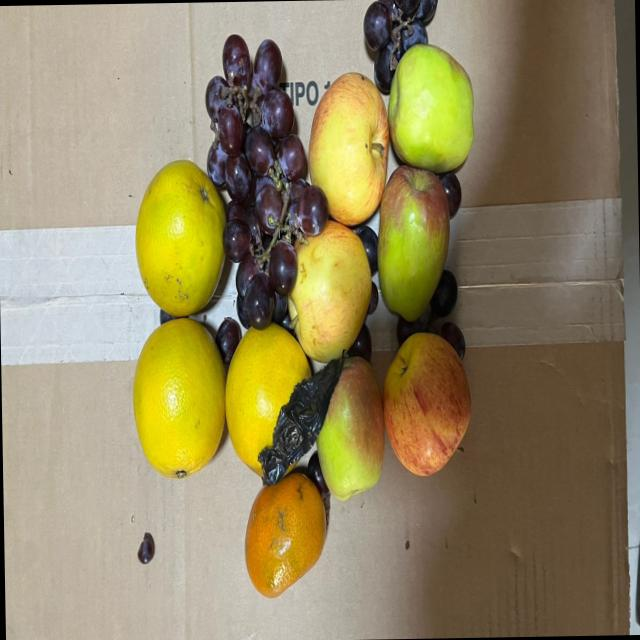bolsa_negra: (266, 362, 345, 480)
